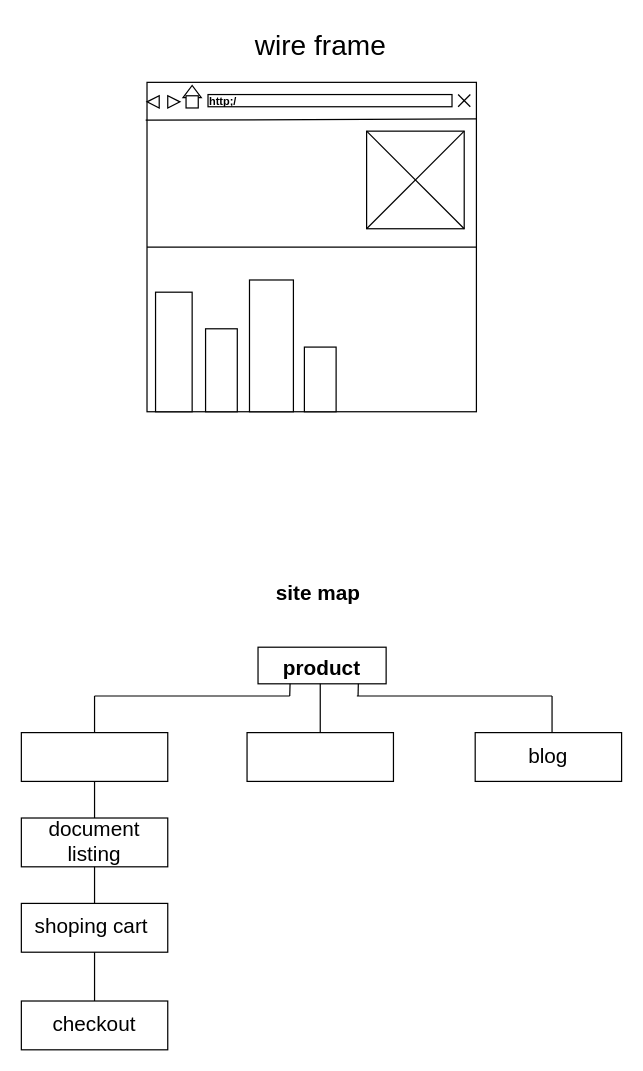
Image size: 643x1071. Some labels were removed from this diagram. The shapes that lost their labels are listed below. From the top down, each one's centre as x and y in pixels, then its label:
At point (94, 756): "home page".
At point (319, 756): "about us".
